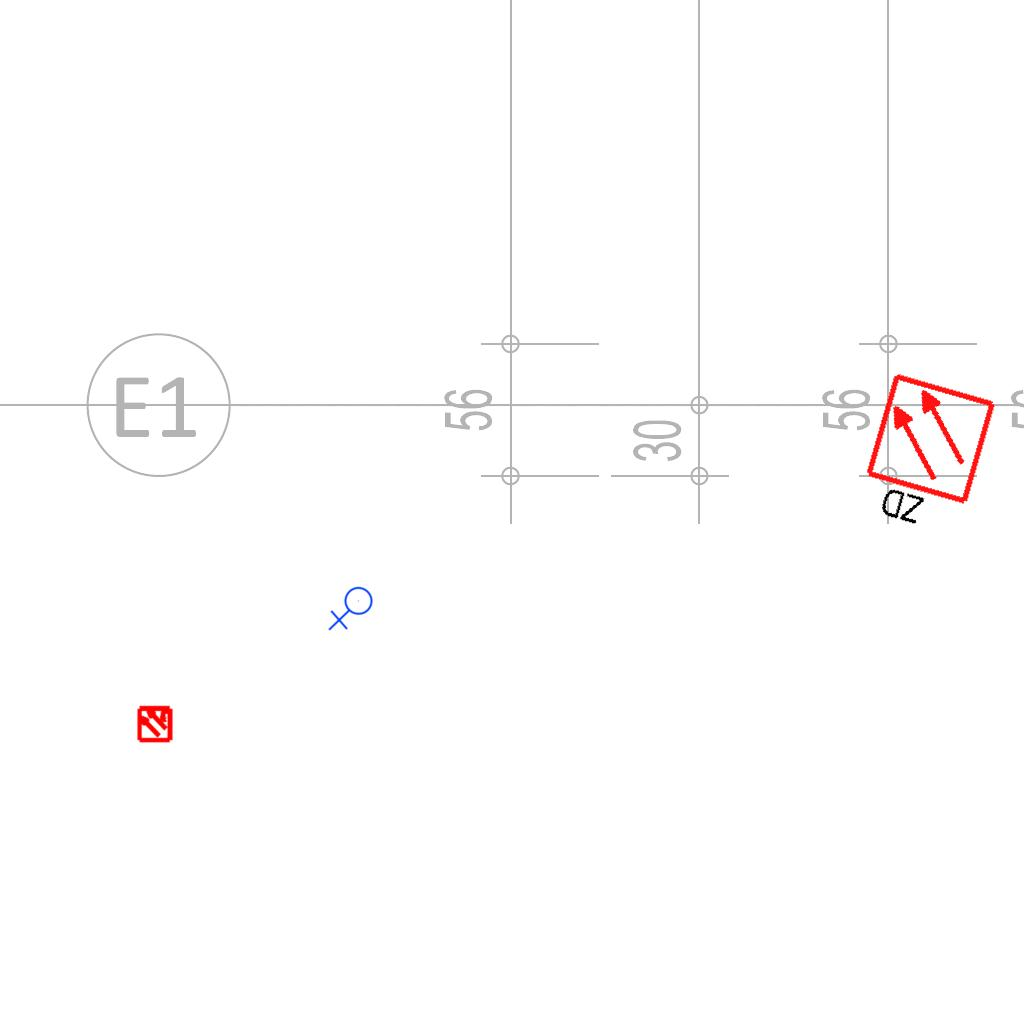Elektroanschluss_allgemein_230V_Geraeteanschlussdose_230V: (328, 586, 377, 633)
OT_Multisensormelder_(Kombination_RMO_WMD): (127, 695, 183, 751)
ZD_Melder_in_Zwischendecke_mit_Revisionsoeffnung_mind_40_x_40_cm: (851, 370, 1003, 545)
